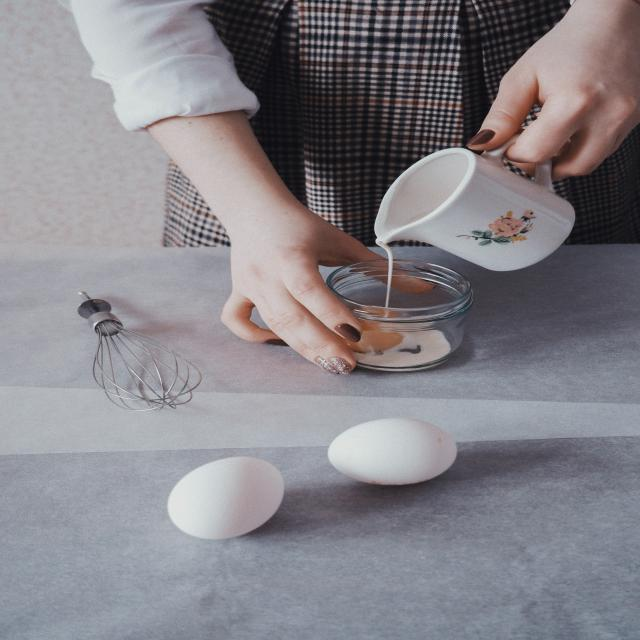egg: (144, 438, 333, 550), (315, 412, 509, 515)
